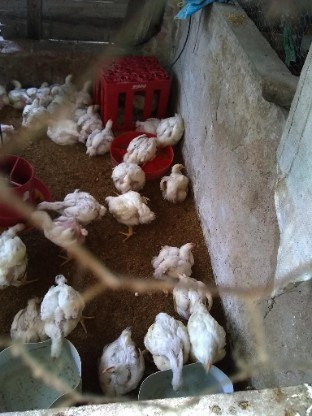Pollos: (139, 307, 189, 394), (40, 279, 91, 361), (95, 328, 145, 398), (31, 210, 90, 263), (189, 311, 233, 374), (0, 215, 33, 292), (107, 190, 154, 235), (169, 271, 213, 319), (33, 190, 101, 221), (148, 238, 195, 279), (8, 295, 39, 350), (157, 164, 189, 204), (107, 160, 145, 192), (123, 133, 160, 165), (89, 119, 115, 155), (157, 116, 186, 148), (45, 119, 76, 146), (21, 97, 45, 127), (130, 92, 166, 110), (133, 111, 159, 134), (0, 122, 16, 149), (9, 79, 25, 105), (0, 84, 14, 113), (80, 77, 97, 93), (48, 85, 65, 101), (62, 67, 76, 85), (36, 80, 48, 94), (87, 103, 96, 119), (92, 102, 104, 111)
